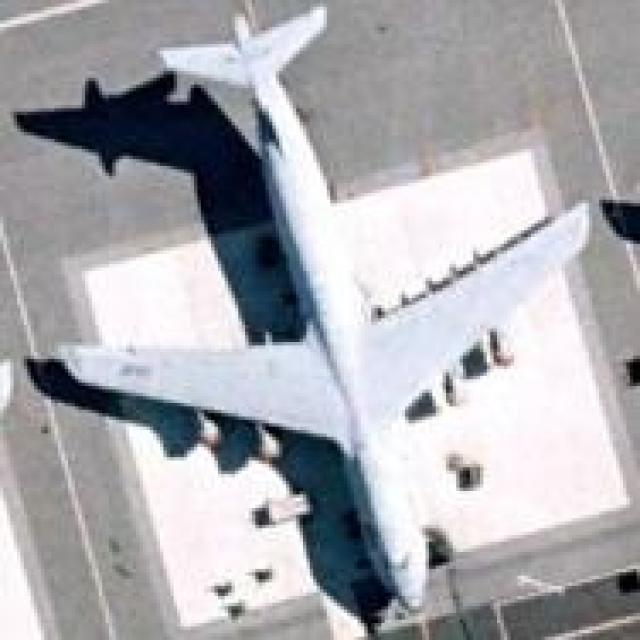C-5_TopDown: (10, 0, 596, 623)
